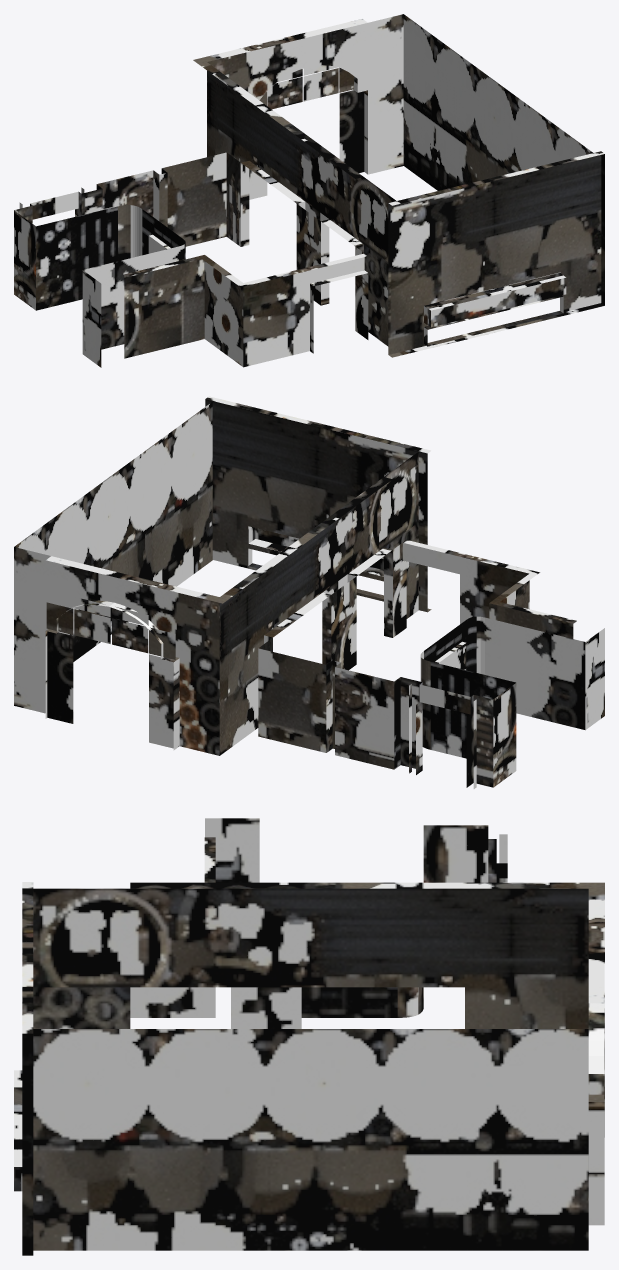
File: hotelhamilton_6.obj
3 views of the same model, one above another, from view 1: azimuth 30°, elevation 25°; view 2: azimuth 150°, elevation 25°; view 3: azimuth 270°, elevation 25° (orthographic). The views are drawn at different scales.
Bounding box in the file's own units: 13.68 × 4.51 × 10.87.
